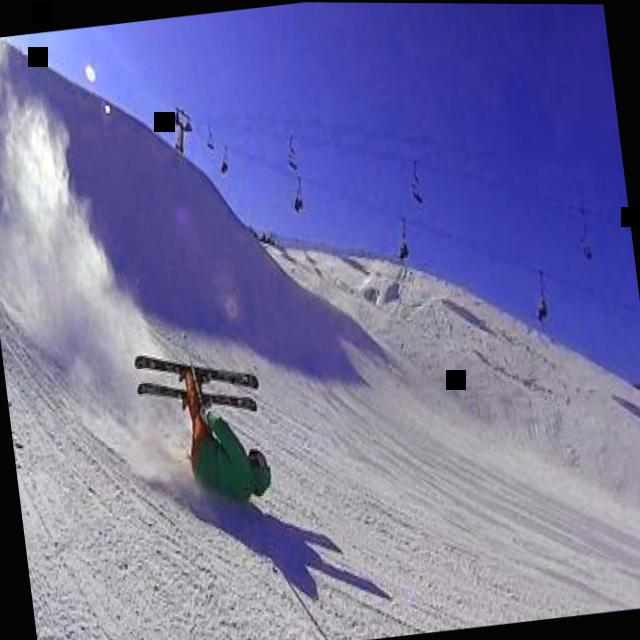Fall-Detected: (119, 314, 297, 527)
